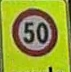limite 50: (10, 8, 58, 56)
